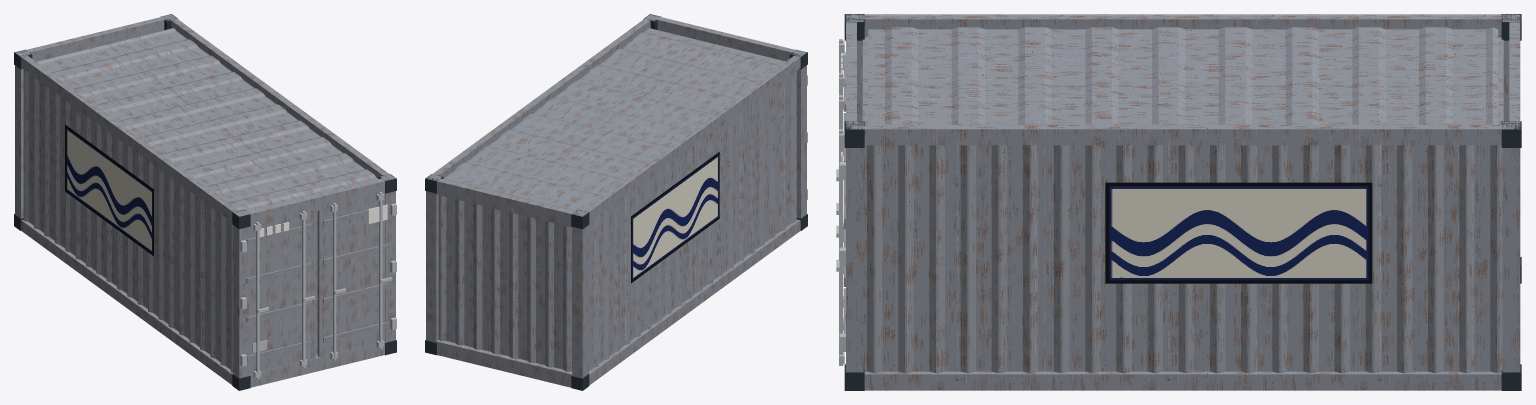
File: container_grey.glb
The picture shows the model from 3 angles, left to right: view 1: azimuth 30°, elevation 25°; view 2: azimuth 150°, elevation 25°; view 3: azimuth 270°, elevation 25°; orthographic projection. The views are drawn at different scales.
Parts seen in each view (by area): view 1: harbor_container_grey; view 2: harbor_container_grey; view 3: harbor_container_grey.
Boxes of the visible parts, x1=… form: harbor_container_grey: x1=14, y1=14, x2=396, y2=390; harbor_container_grey: x1=425, y1=14, x2=807, y2=390; harbor_container_grey: x1=836, y1=14, x2=1521, y2=390.
Size of the model in its own units: 2.46 by 2.59 by 6.15.
6 materials, 3 textured.
